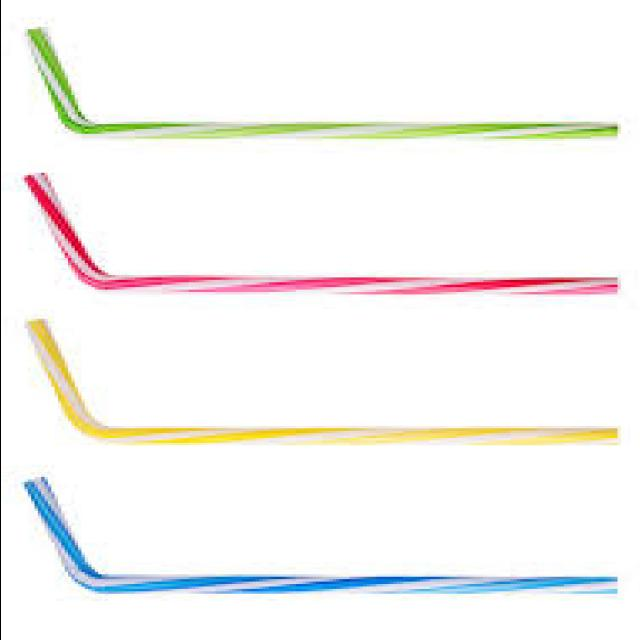straw: (26, 323, 617, 445), (24, 176, 617, 295), (22, 479, 615, 594), (26, 29, 617, 139)
